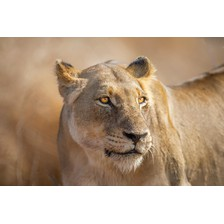lion: (50, 48, 223, 185)
